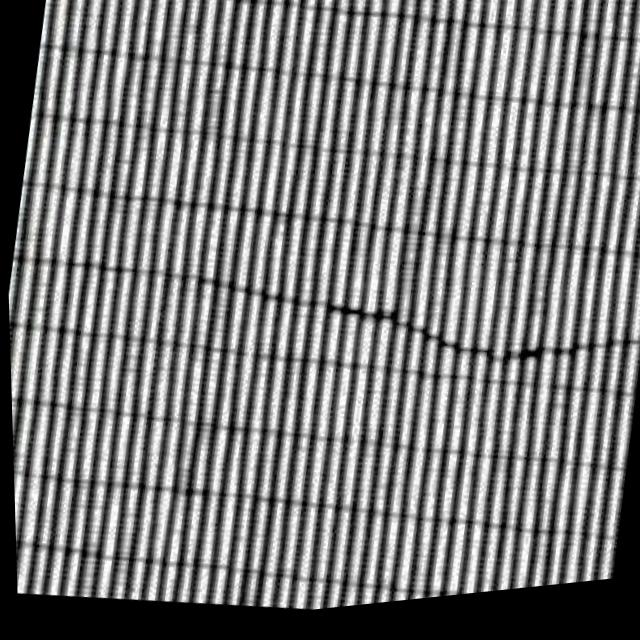Stitch: (236, 236, 640, 447)
